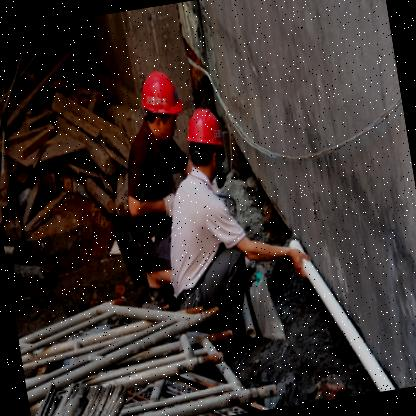capacete: (134, 64, 188, 142), (181, 104, 231, 176)
sem_colete_refletivo: (154, 171, 248, 308), (113, 126, 189, 239)
